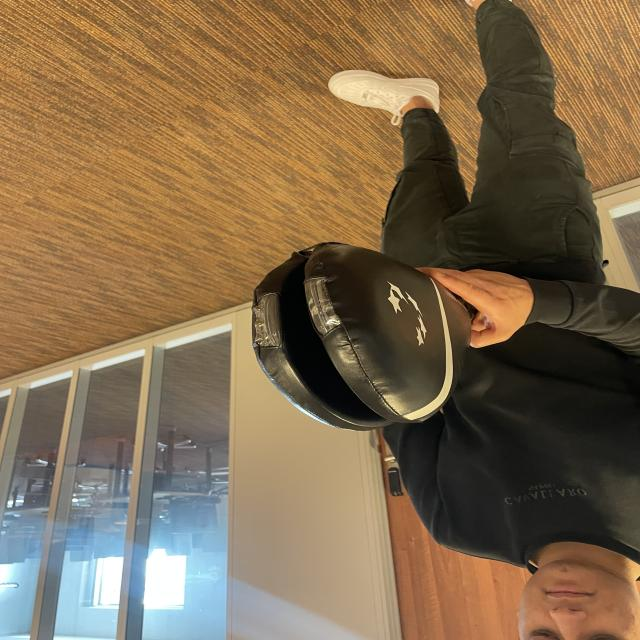paddle: (251, 243, 470, 434)
